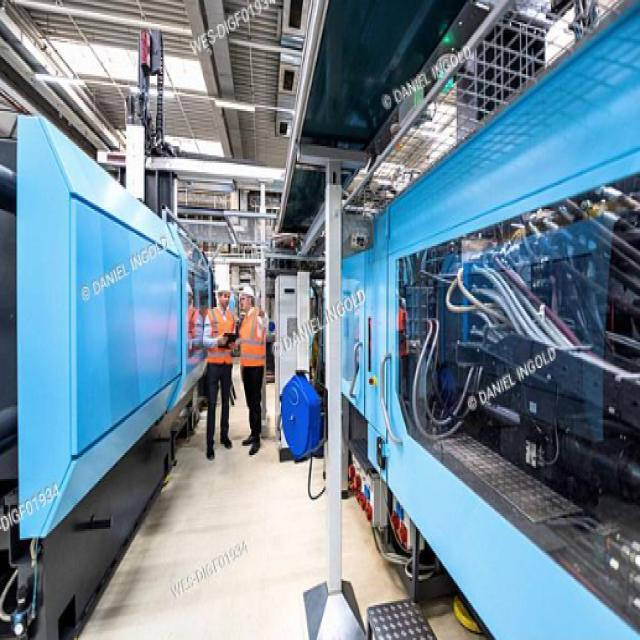boots: (203, 431, 233, 461), (240, 429, 262, 457)
helmet: (238, 284, 255, 315), (215, 278, 232, 308)
vest: (205, 303, 236, 365), (239, 309, 268, 367)
